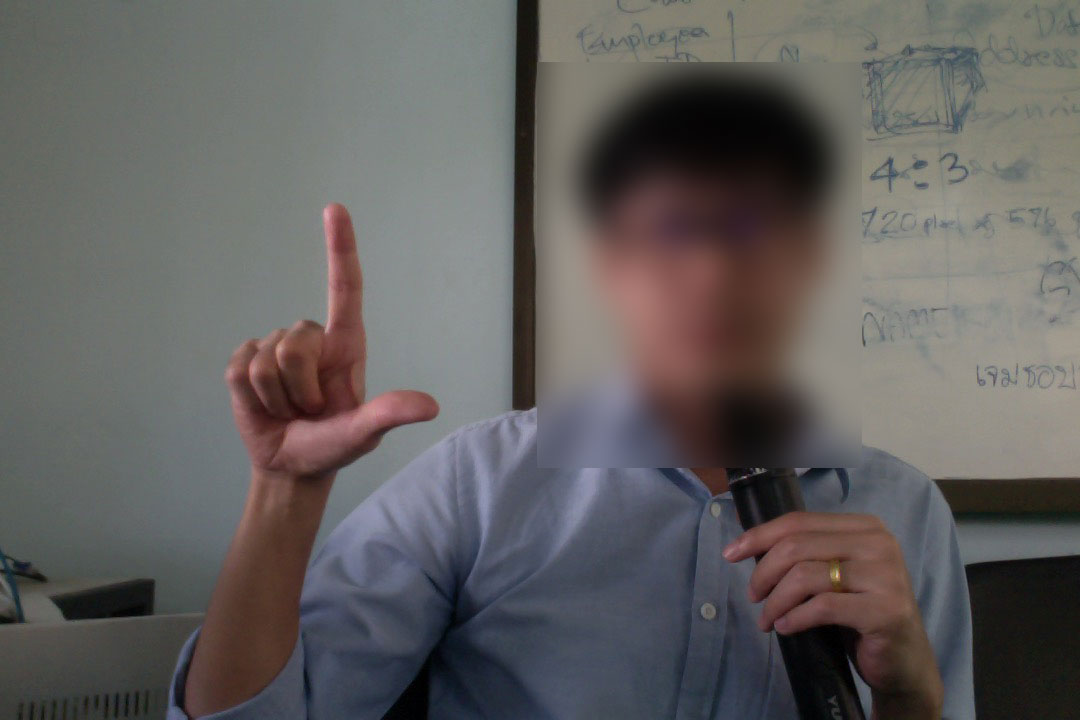lor: (220, 187, 453, 515)
